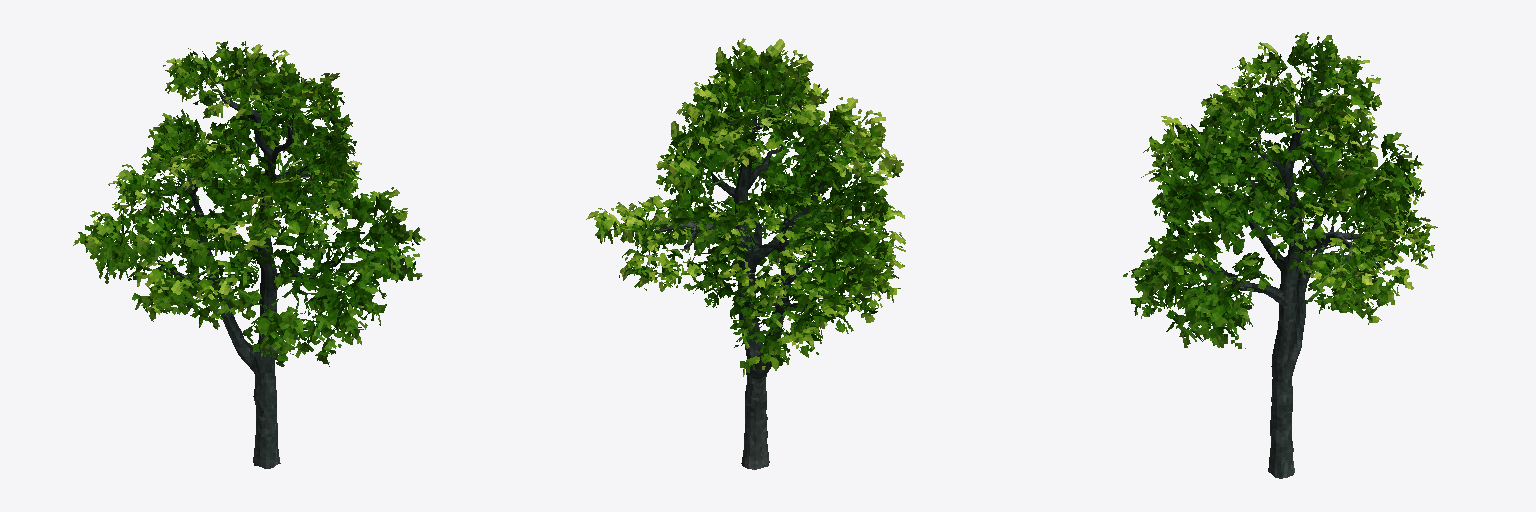
The picture shows the model from 3 angles: view 1: azimuth 30°, elevation 25°; view 2: azimuth 150°, elevation 25°; view 3: azimuth 270°, elevation 25°; orthographic projection.
Visible parts, largest first — view 1: AM113_048_Acer_platanoides35; view 2: AM113_048_Acer_platanoides35; view 3: AM113_048_Acer_platanoides35.
Part boxes in pixels (x1,y1,x2,y2): AM113_048_Acer_platanoides35: (73,41,425,468); AM113_048_Acer_platanoides35: (586,38,905,469); AM113_048_Acer_platanoides35: (1123,32,1437,478).
Size of the model in its own units: 143 by 203 by 141.
Materials: 1 (1 with a texture image).